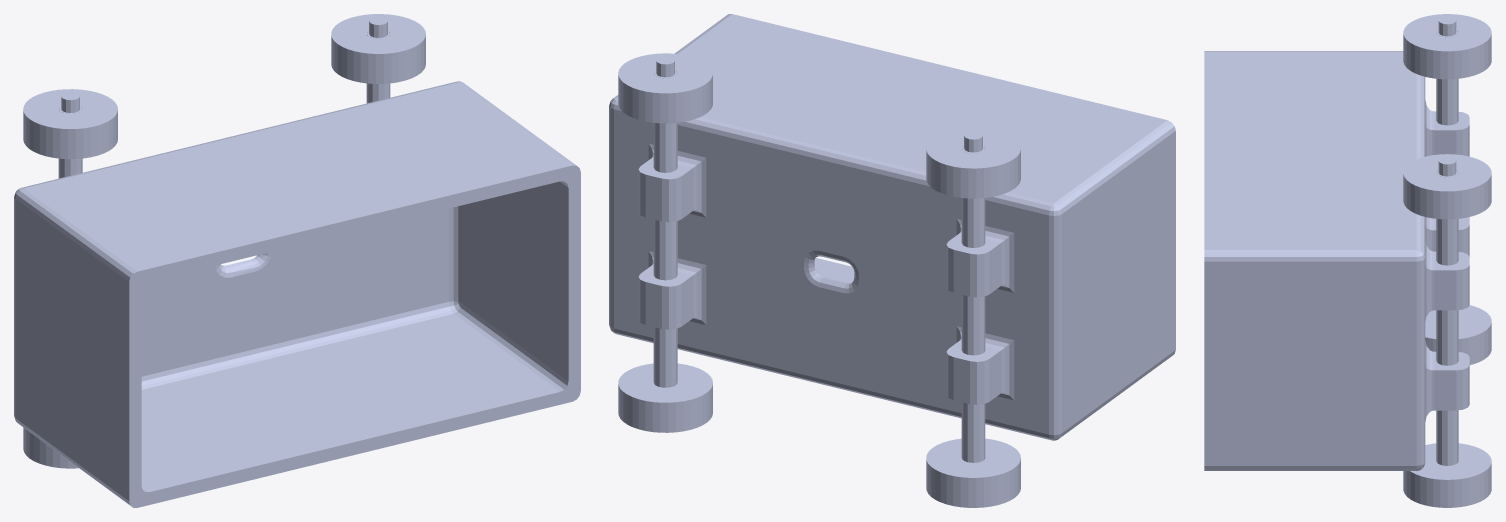
File: drill_container.glb
3 views of the same model, side by side, from view 1: azimuth 30°, elevation 25°; view 2: azimuth 150°, elevation 25°; view 3: azimuth 270°, elevation 25° (orthographic). The views are drawn at different scales.
Visible parts, largest first — view 1: body11810240; view 2: body11810240; view 3: body11810240.
Boxes of the visible parts, box(x1,y1,x2,y2) form: body11810240: box(14, 14, 580, 507); body11810240: box(609, 14, 1175, 507); body11810240: box(1204, 14, 1491, 507).
Bounding box in the file's own units: 0.11 × 0.085 × 0.065.
